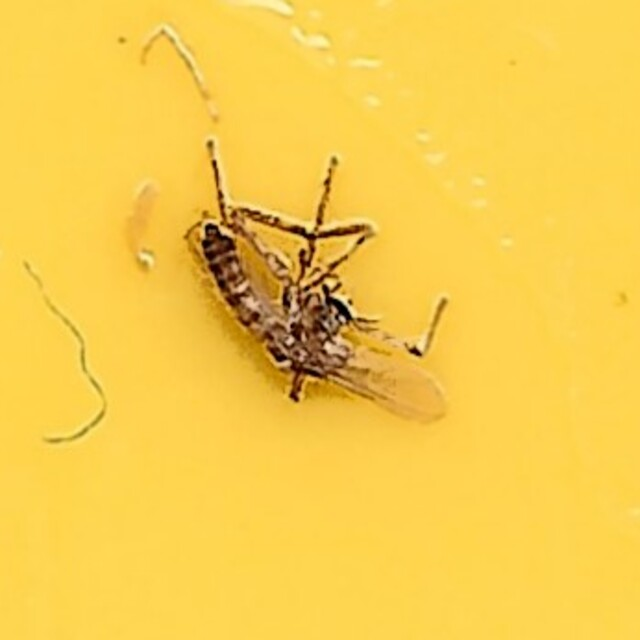Nematocera: (185, 211, 455, 429)
